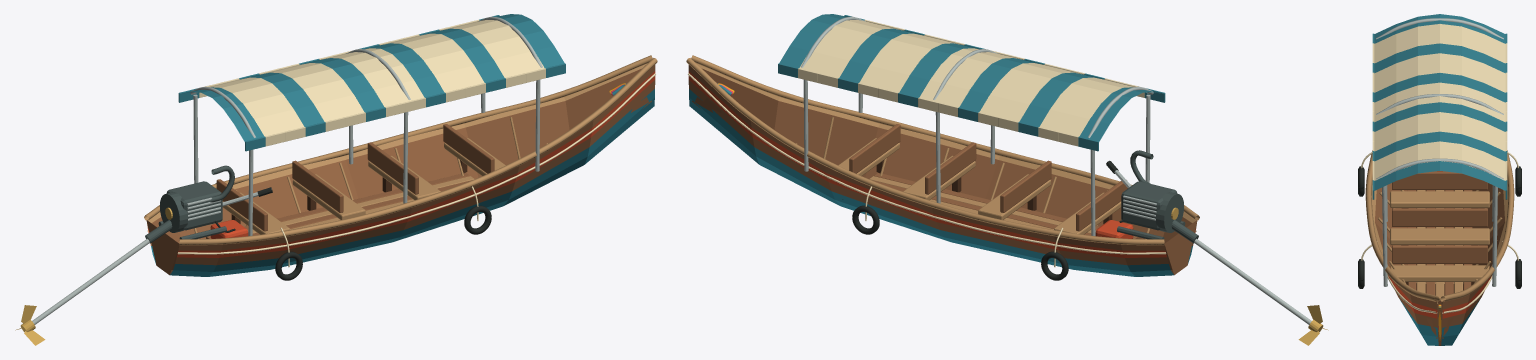
File: river-longtail.glb
3 renders of one model, left to right at view 1: azimuth 30°, elevation 25°; view 2: azimuth 150°, elevation 25°; view 3: azimuth 270°, elevation 25°, orthographic.
Parts seen in each view (by area): view 1: HullMesh, CanopyMesh, PassengerCabinMesh, LongtailEngineMesh; view 2: HullMesh, CanopyMesh, PassengerCabinMesh, LongtailEngineMesh; view 3: CanopyMesh, PassengerCabinMesh, HullMesh.
Part boxes in pixels (box(x1,y1,x2,y2)): HullMesh: box(144, 55, 657, 280); CanopyMesh: box(178, 14, 565, 151); PassengerCabinMesh: box(193, 79, 540, 238); LongtailEngineMesh: box(15, 165, 272, 345); HullMesh: box(686, 55, 1199, 280); CanopyMesh: box(778, 14, 1165, 151); PassengerCabinMesh: box(803, 79, 1150, 238); LongtailEngineMesh: box(1095, 150, 1328, 345); CanopyMesh: box(1372, 14, 1507, 199); PassengerCabinMesh: box(1382, 171, 1497, 300); HullMesh: box(1358, 150, 1521, 345).
Size of the model in its own units: 8.39 by 2.47 by 1.87.
